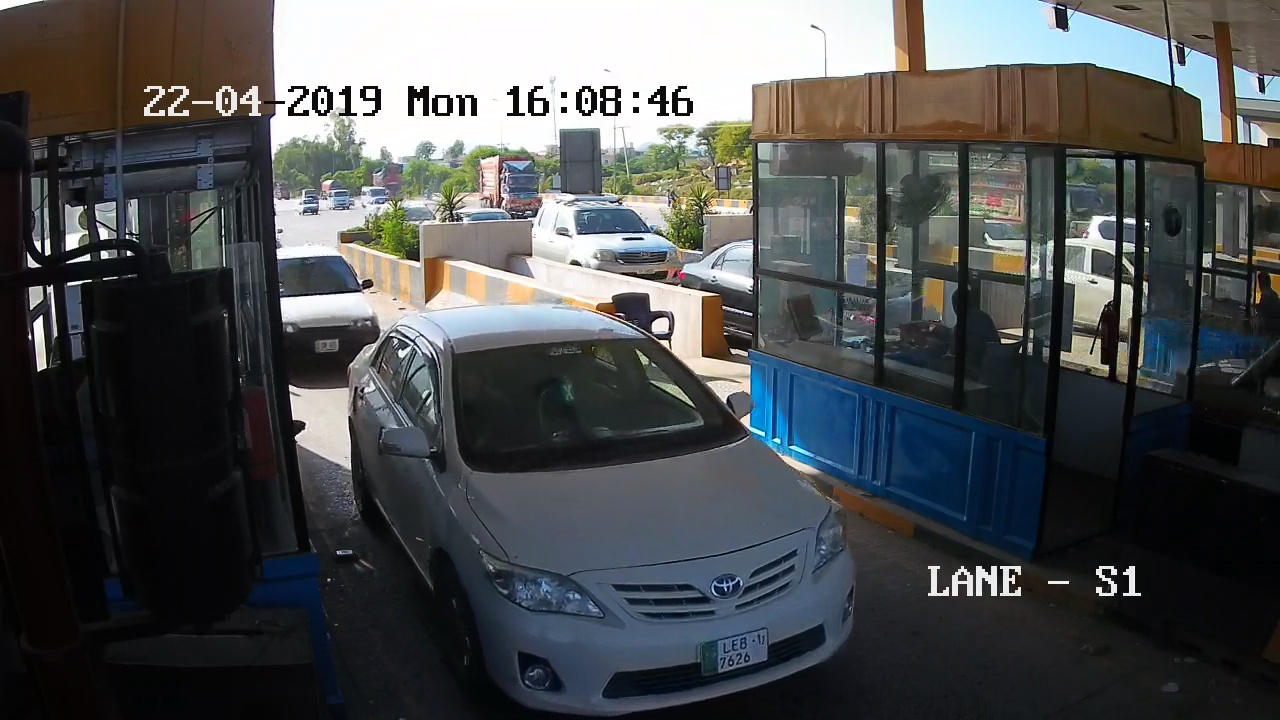Number Plate (Car): (700, 630, 769, 671), (315, 338, 339, 350)
